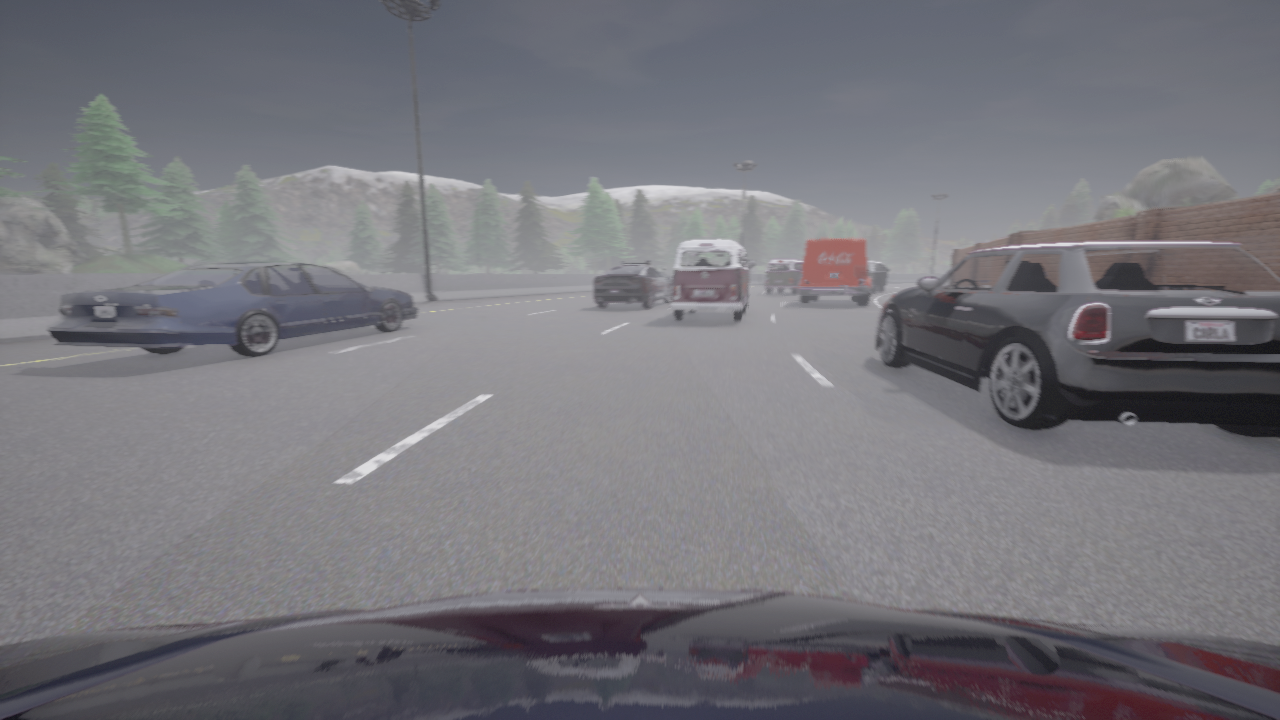cyclist: (0, 588, 1279, 719), (876, 241, 1279, 438), (46, 261, 417, 357), (670, 239, 754, 321), (799, 238, 870, 304), (594, 261, 671, 308), (764, 259, 803, 294), (868, 260, 888, 292), (658, 270, 671, 283)
